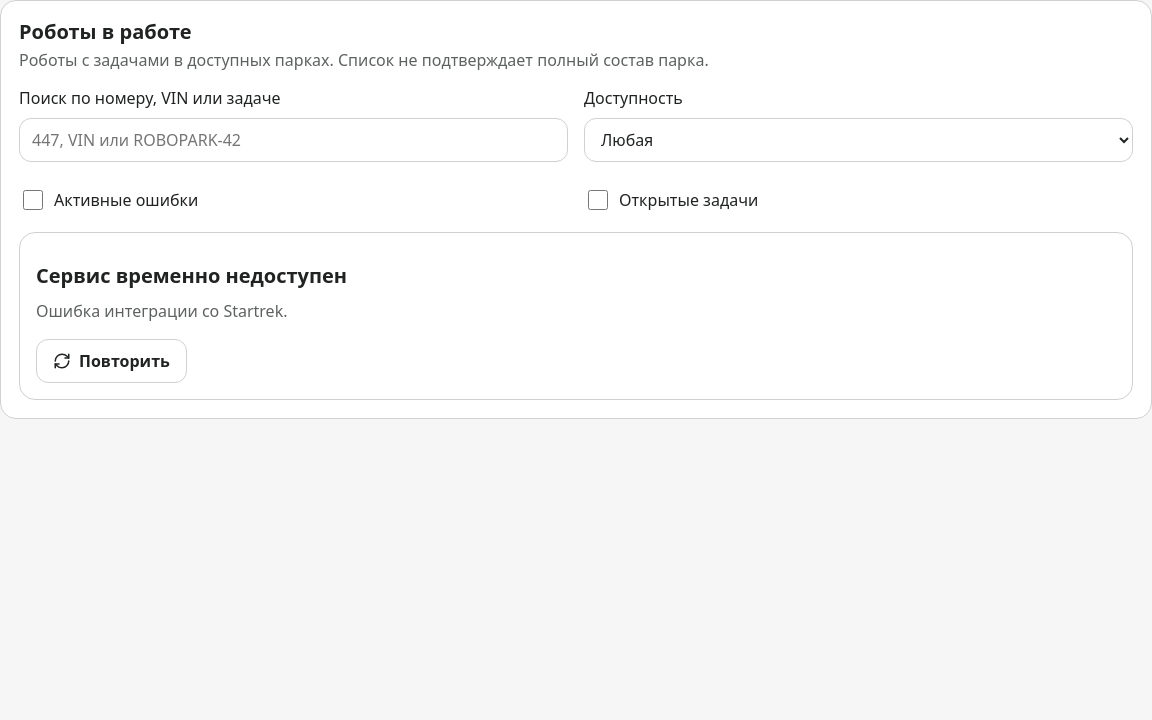
Test: registry resource states › retries an upstream failure and displays the new batch
This screenshot has width=1152, height=720.
Expected: the message "Сервис временно недоступен Ошибка интеграции со Startrek. Повторить" is shown, [19,232,1133,400]
Click the button "Повторить" at (111, 361), box [36,339,187,383]
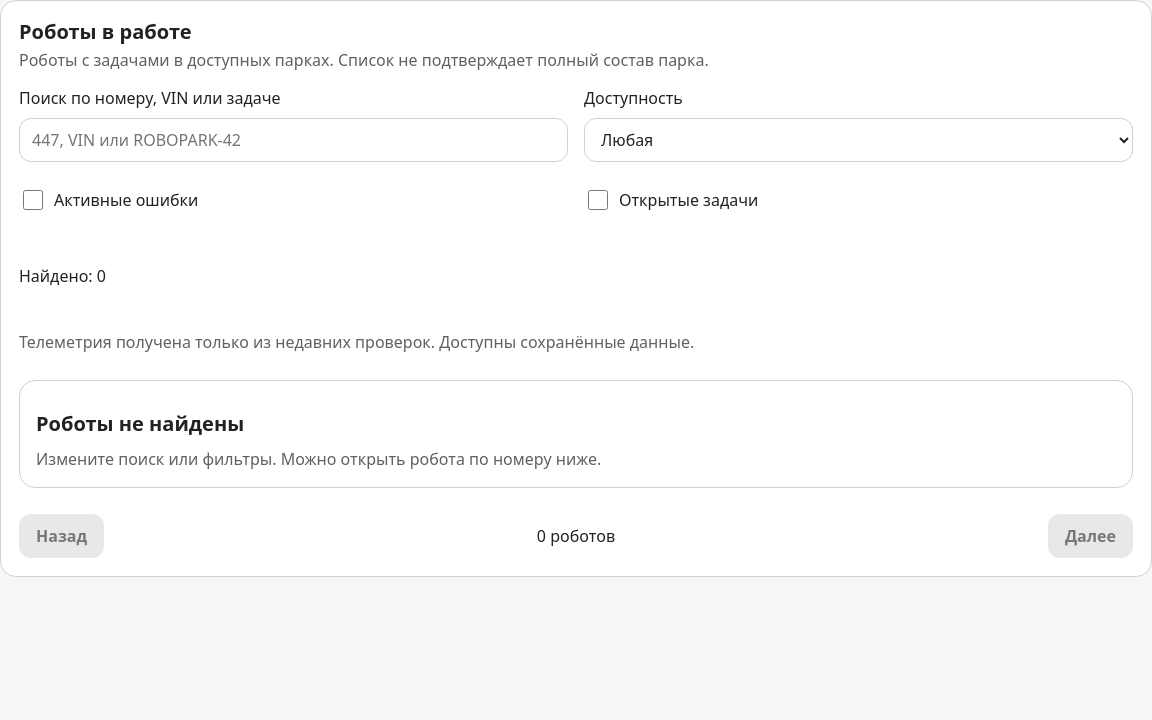
Now the heading "Роботы не найдены" is shown, box [36,410,244,437]
